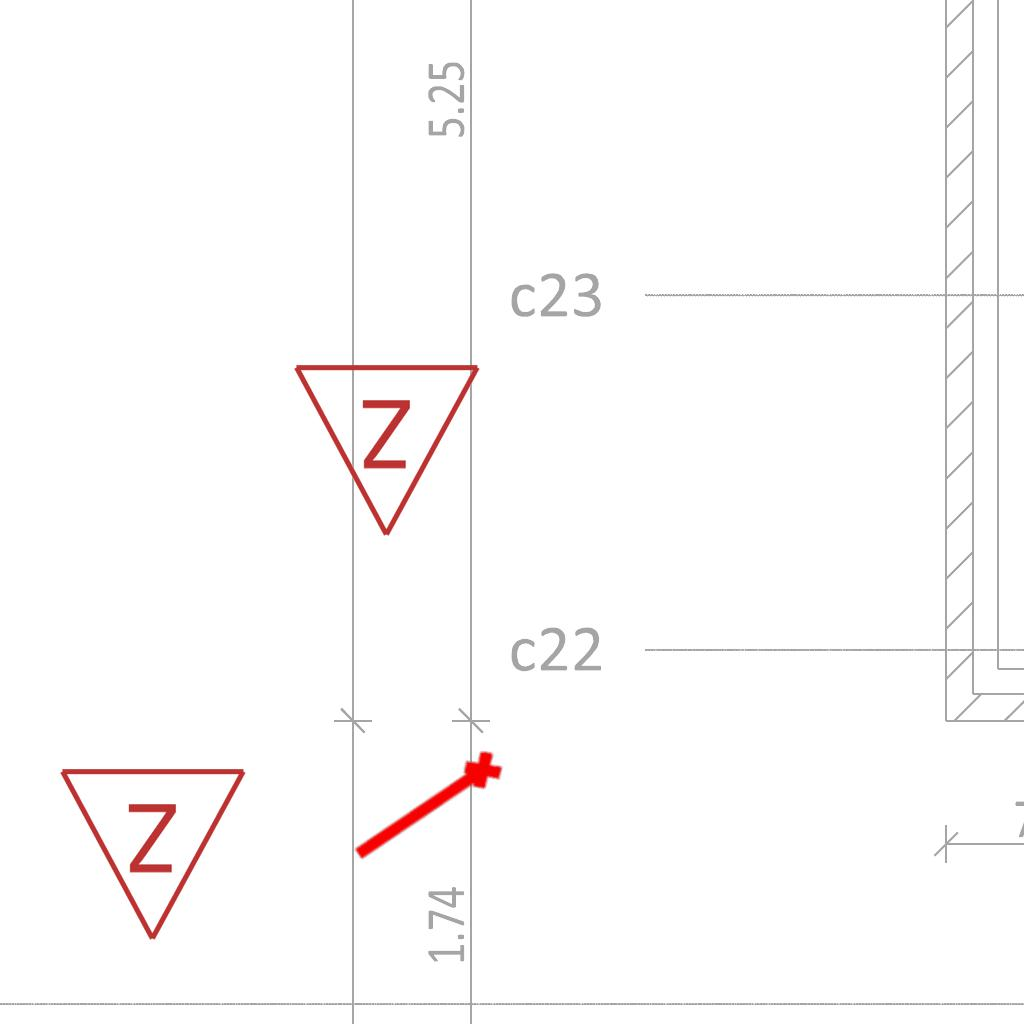ASR_Ansaugoeffnung: (342, 741, 514, 879)
Zimmersignalleuchte: (291, 350, 487, 550), (57, 754, 253, 954)
